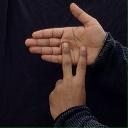hand: (24, 2, 106, 66), (48, 42, 87, 122)
